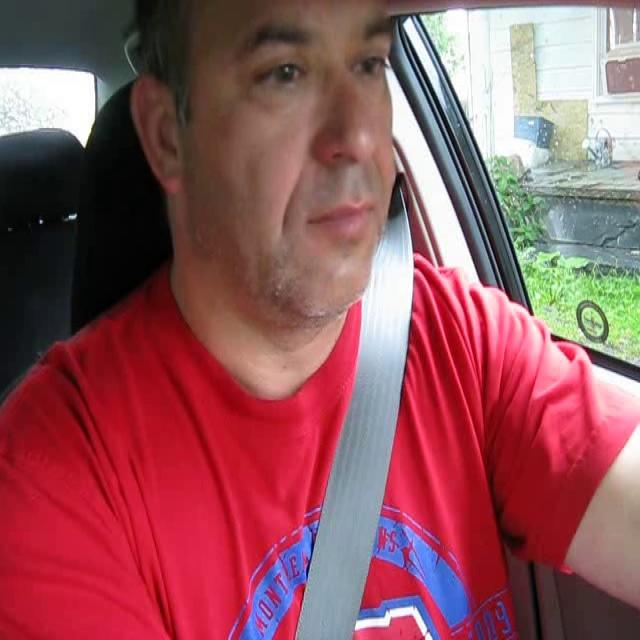close: (304, 192, 377, 240)
